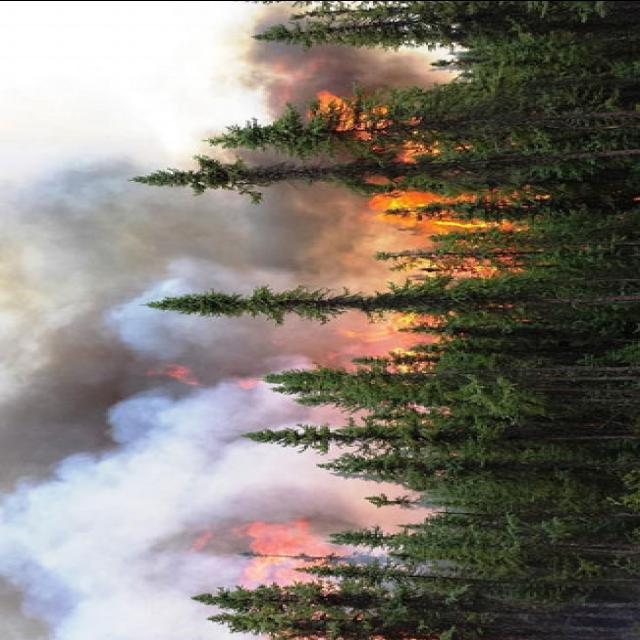Fire: (367, 185, 520, 282), (198, 518, 344, 588), (322, 307, 440, 371)
